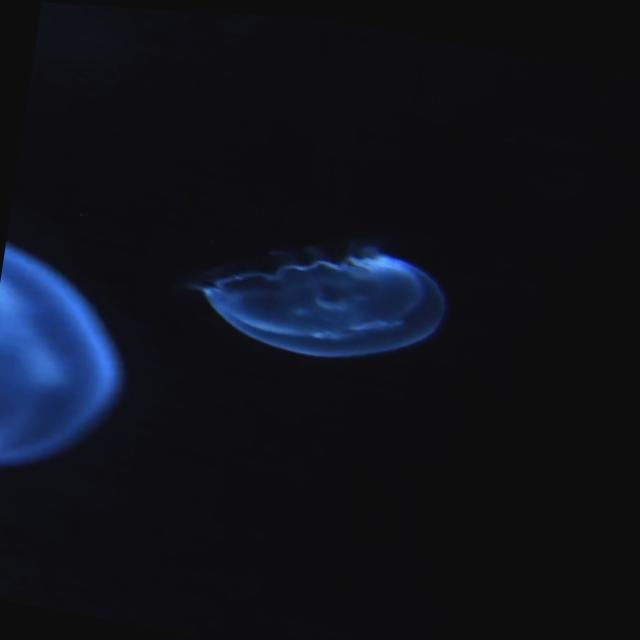Moon-jellyfish: (180, 233, 454, 357)
